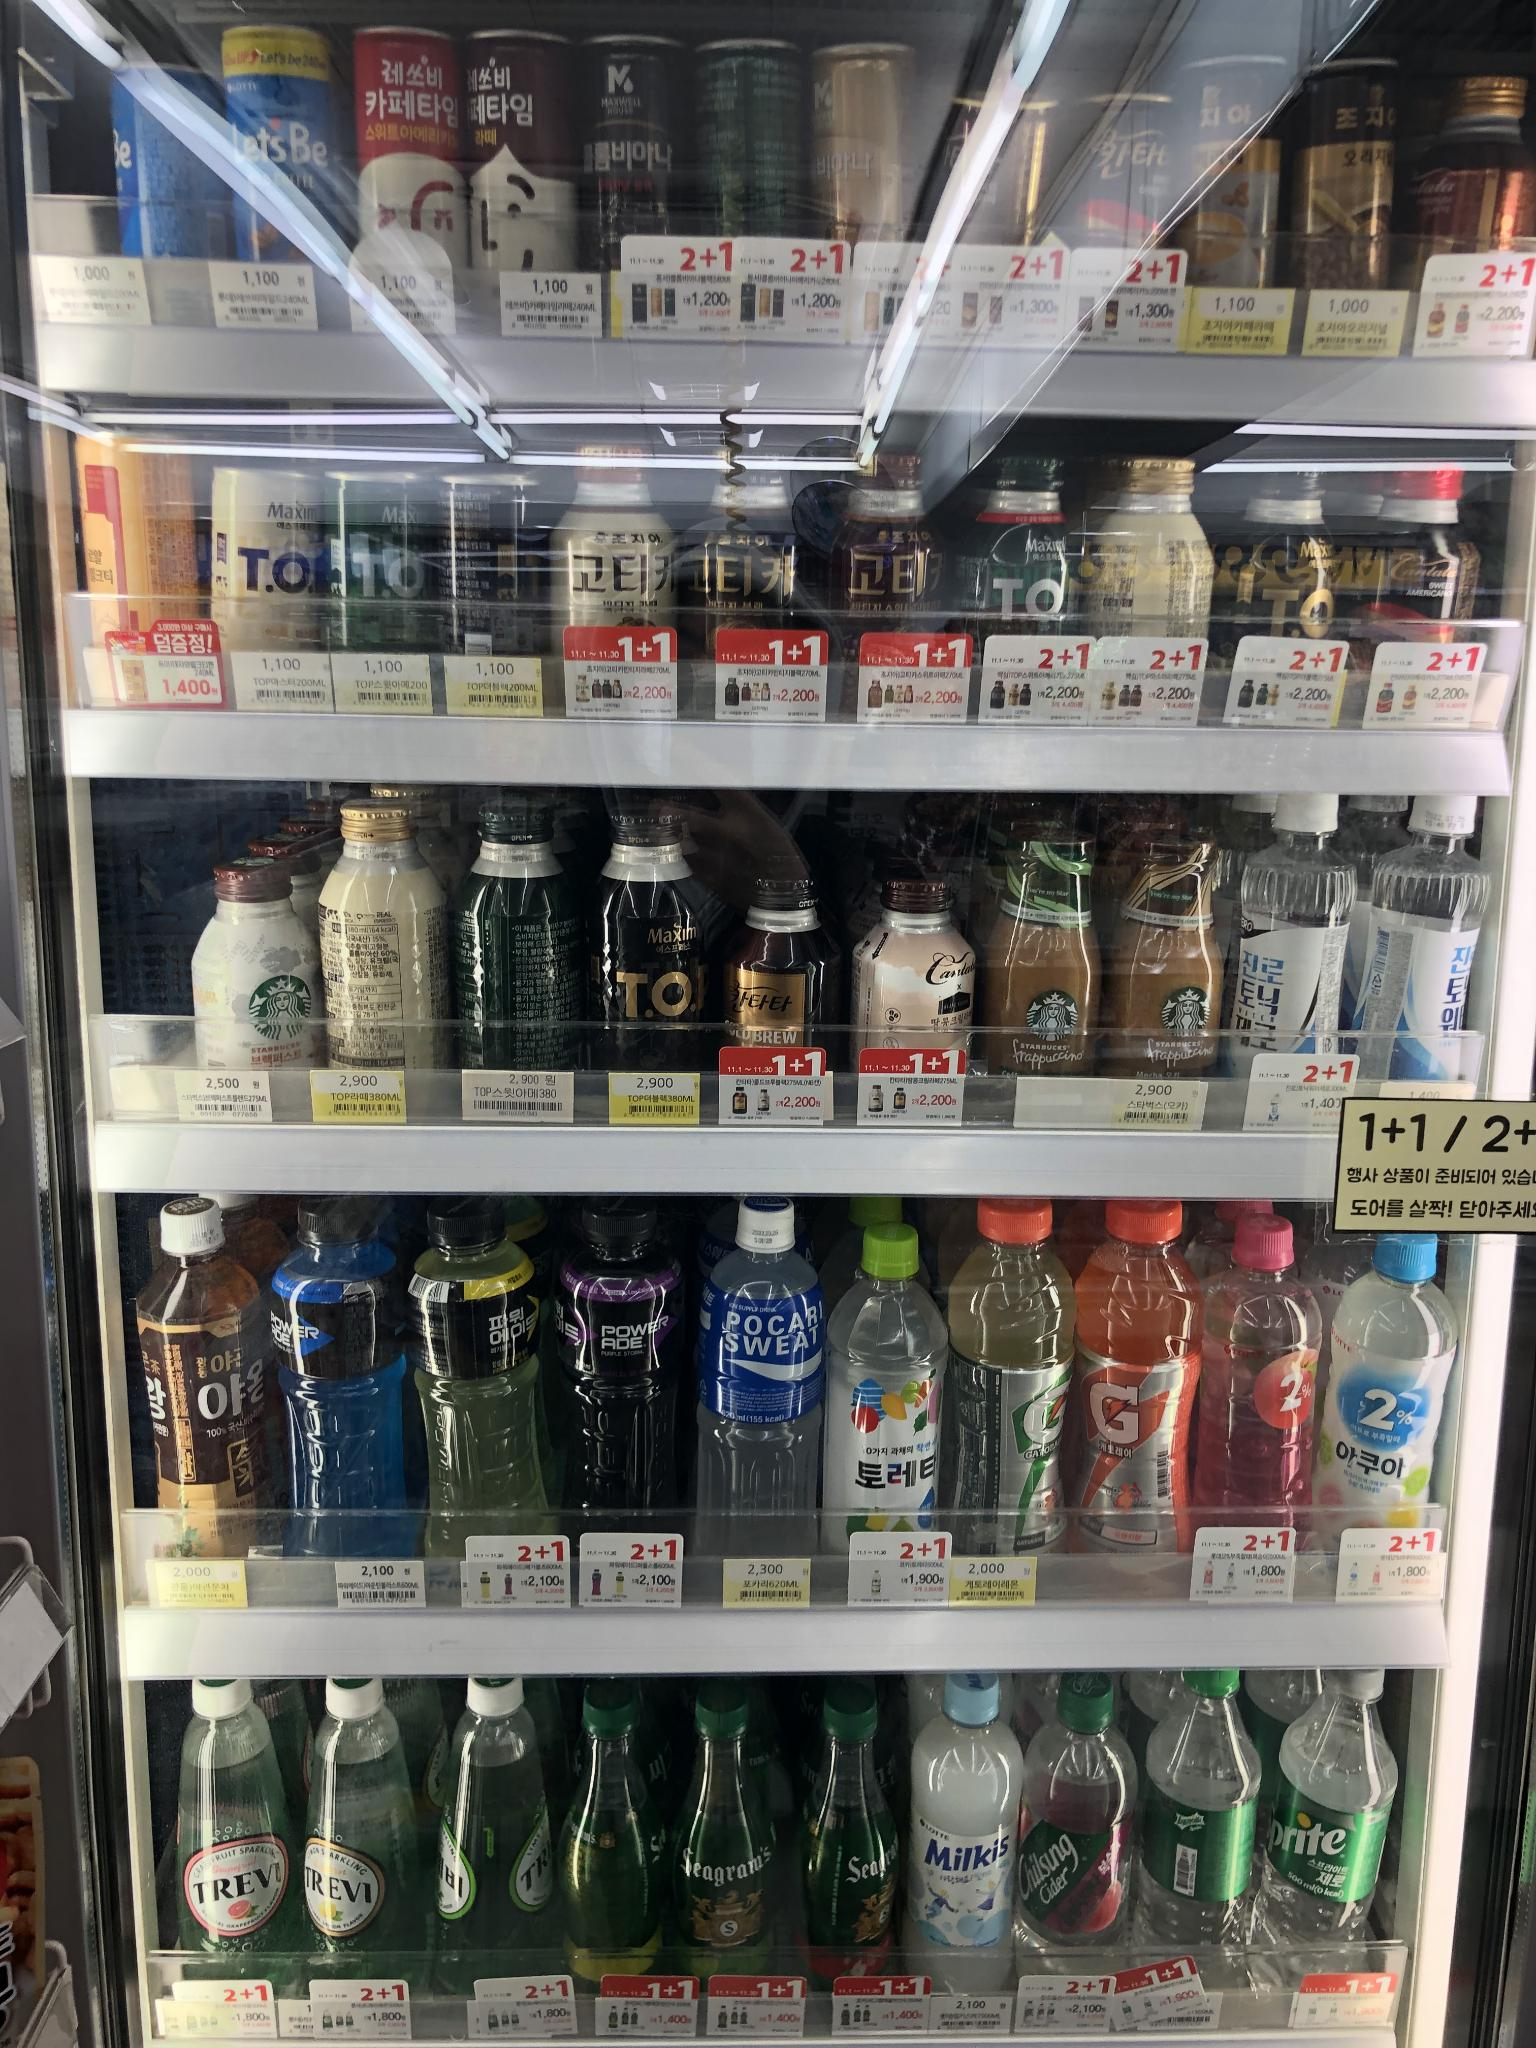TOP_black: (1210, 456, 1352, 643)
gatorade_lemon: (950, 1185, 1070, 1569)
letsbe: (106, 60, 231, 281)
pocarisweat: (695, 1184, 828, 1563)
powerade_mountainblast: (266, 1182, 426, 1580)
toreta: (823, 1216, 949, 1572)
